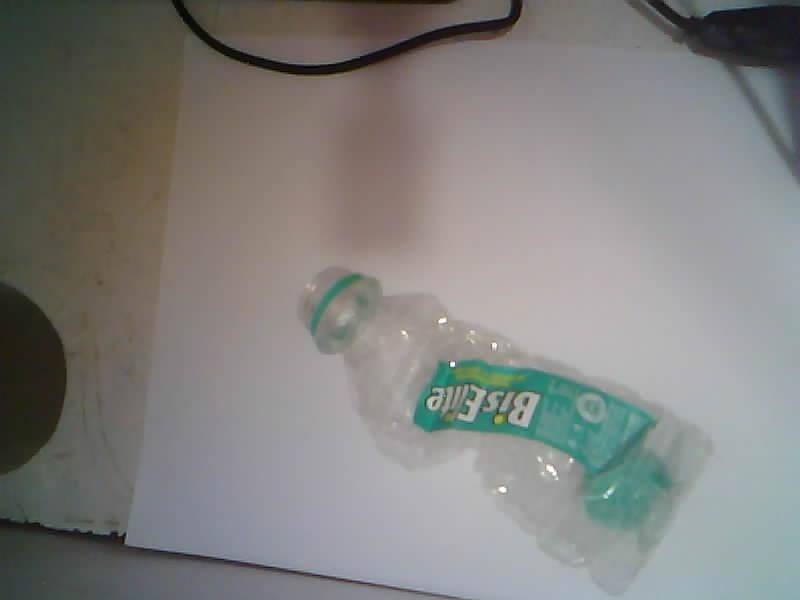non-biodegradable: (304, 269, 710, 593)
